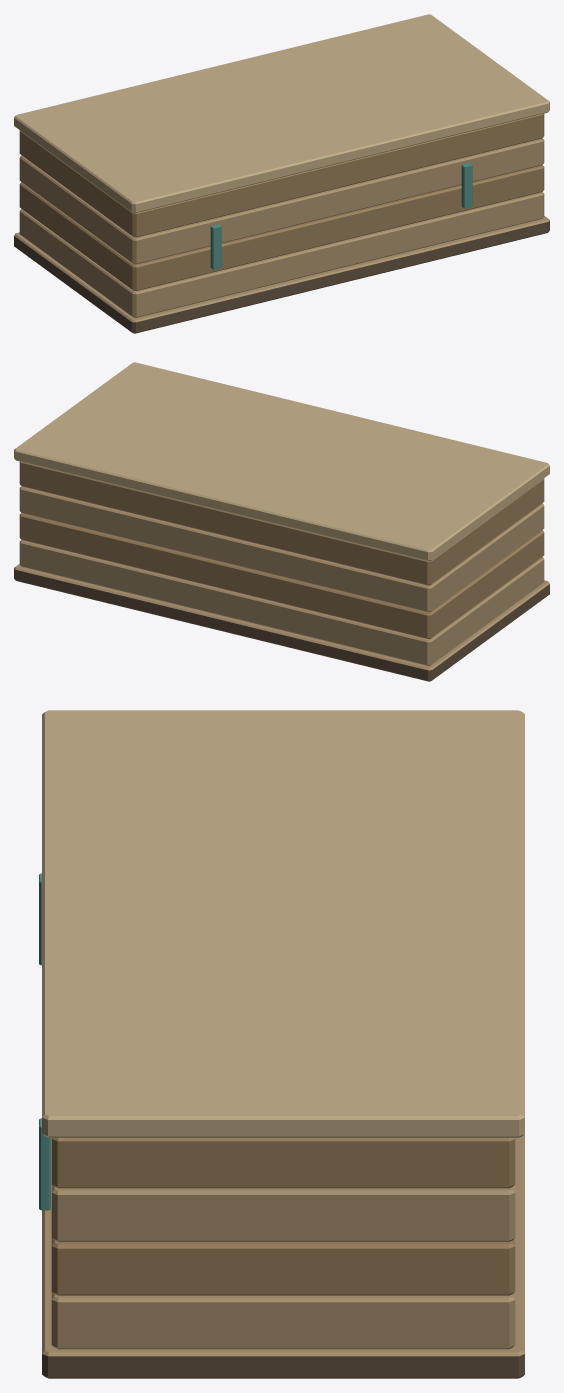
File: platform-wide.glb
3 views of the same model, one above another, from view 1: azimuth 30°, elevation 25°; view 2: azimuth 150°, elevation 25°; view 3: azimuth 270°, elevation 25° (orthographic). The views are drawn at different scales.
Parts seen in each view (by area): view 1: platform-wide__body; view 2: platform-wide__body; view 3: platform-wide__body.
Boxes of the visible parts, x1,y1,x2,y2 form: platform-wide__body: [14, 14, 549, 333]; platform-wide__body: [14, 362, 549, 681]; platform-wide__body: [39, 710, 524, 1378].
Size of the model in its own units: 4 by 1.2 by 2.01.
